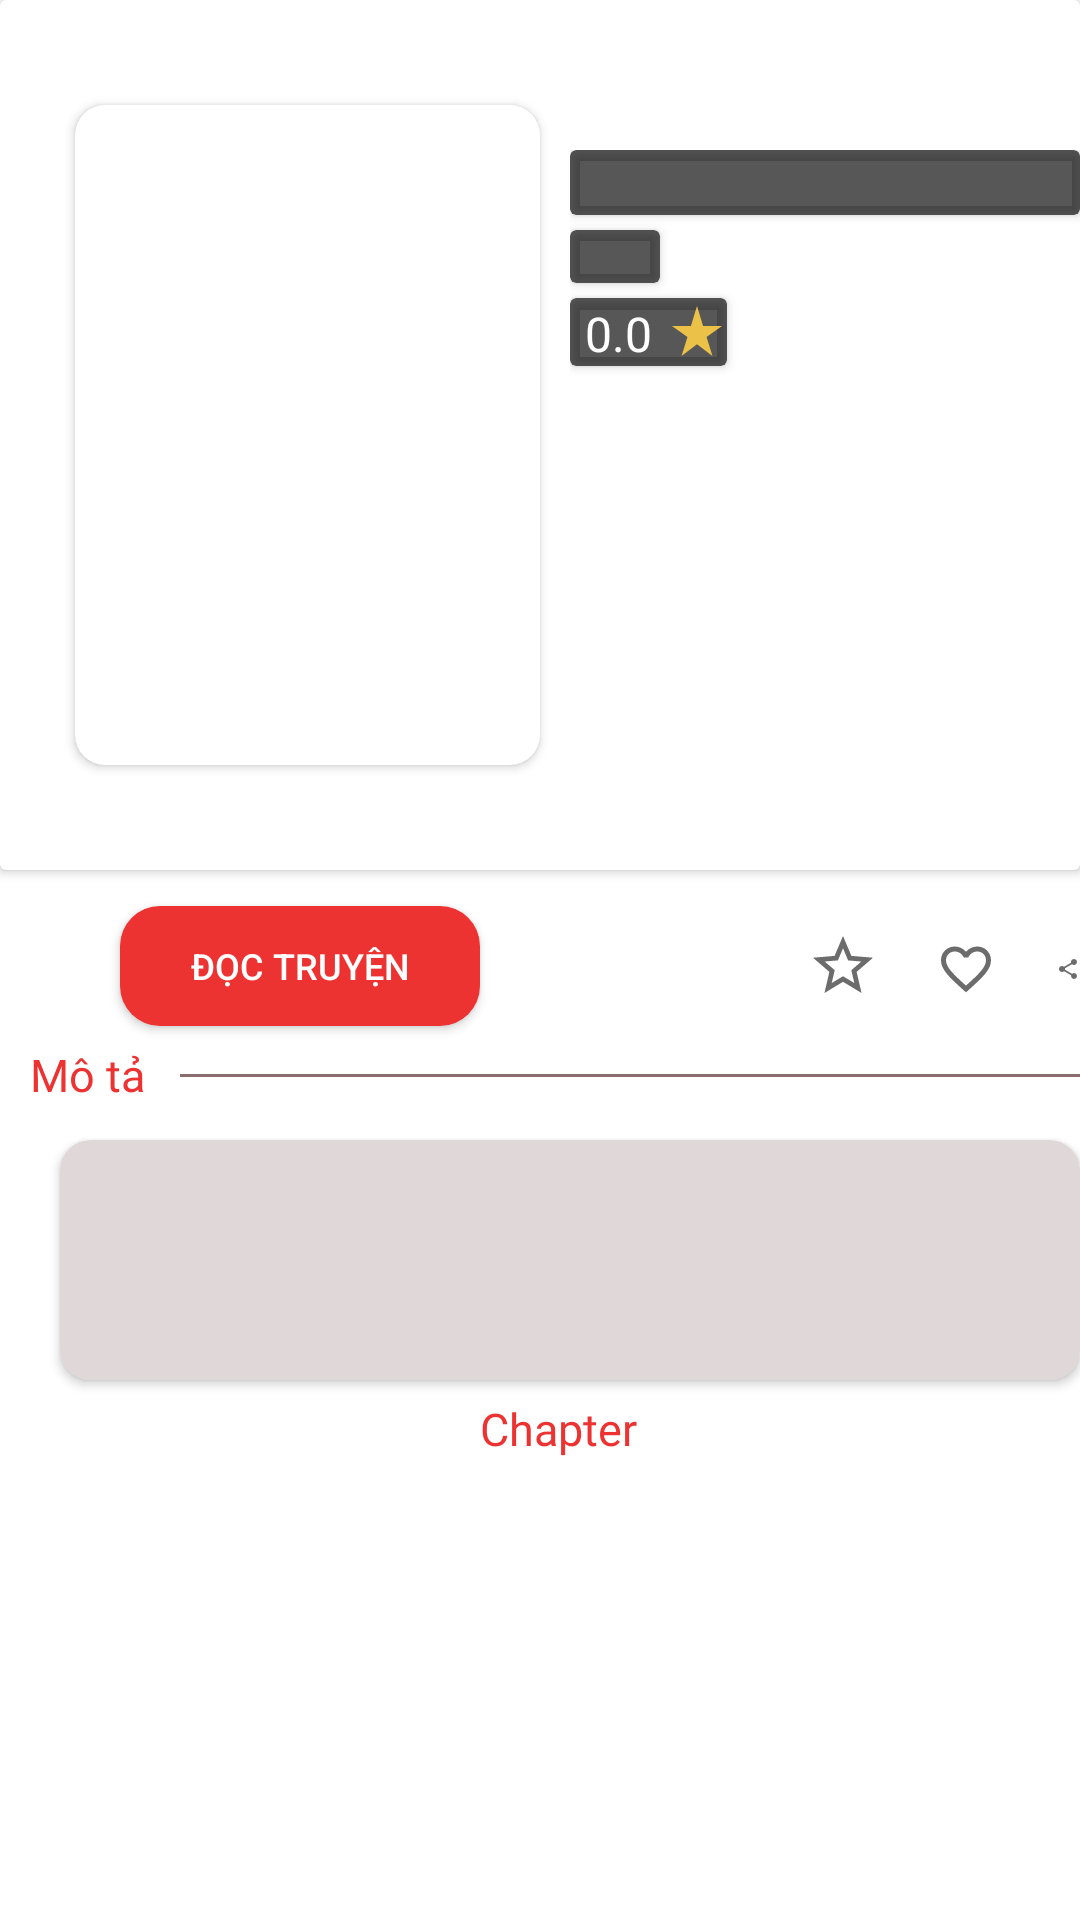

Icon click points for this 1080x1920 phone screenshot, format [x,y]:
favorite: [966,969]
star: [697,331]
star border: [843,964]
